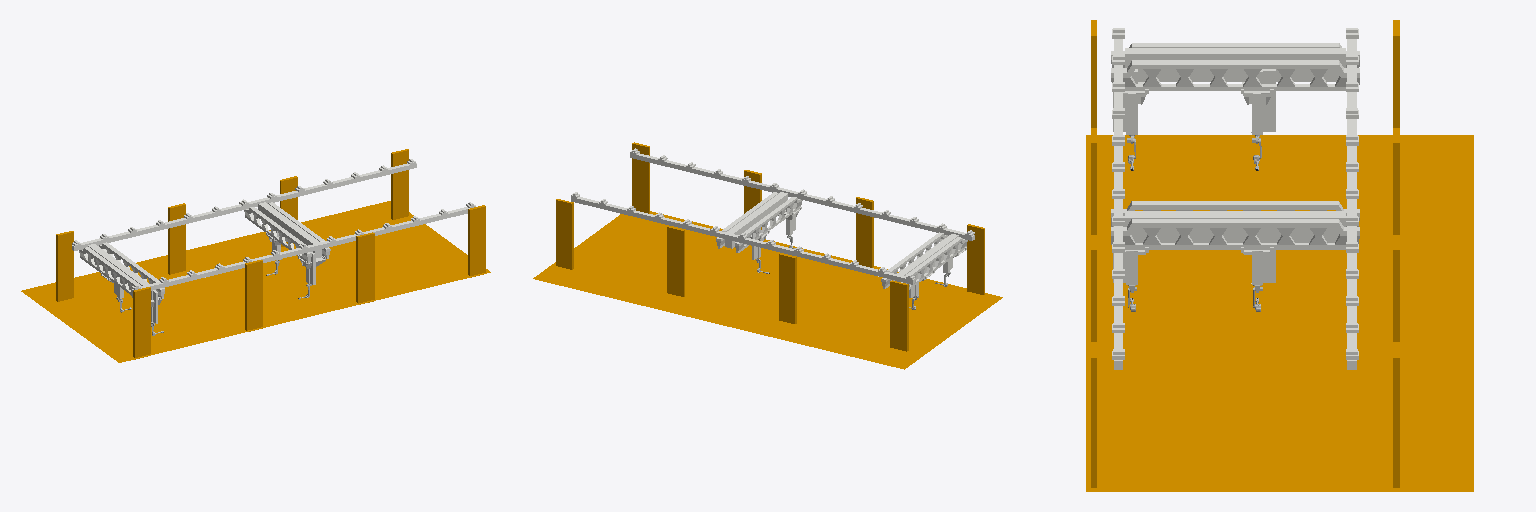
--- What the picture shows (computed from the rendered views, not written in the file) ---
3 views of the same robot in one strip: view 1: azimuth 30°, elevation 25°; view 2: azimuth 150°, elevation 25°; view 3: azimuth 270°, elevation 25° (orthographic).
Model rfl with 44 links and 43 joints (24 revolute, 10 prismatic, 9 fixed), rooted at world, posed joints at zero except 7 at the middle of their limits (robot11_joint_EA_Z = -2.96, robot12_joint_EA_Y = -7.41, robot12_joint_EA_Z = -2.96, bridge2_joint_EA_X = 21.2, robot21_joint_EA_Z = -2.96, robot22_joint_EA_Y = -7.41, +1 more).
Visible links, largest first — view 1: world, x_rail, bridge2, bridge1; view 2: world, x_rail, bridge2, bridge1; view 3: world, bridge2, bridge1, x_rail, robot12_base, robot22_base, robot11_base.
Boxes of the visible links, box(x1,y1,x2,y2) form: world: box(21, 149, 490, 362); x_rail: box(72, 159, 475, 293); bridge2: box(244, 202, 330, 263); bridge1: box(79, 242, 164, 298); world: box(533, 142, 1002, 369); x_rail: box(571, 148, 974, 284); bridge2: box(716, 192, 802, 252); bridge1: box(881, 232, 967, 289); world: box(1086, 20, 1473, 491); bridge2: box(1111, 201, 1359, 249); bridge1: box(1111, 43, 1359, 90); x_rail: box(1112, 28, 1358, 369); robot12_base: box(1251, 69, 1275, 134); robot22_base: box(1251, 250, 1275, 284); robot11_base: box(1113, 69, 1137, 134).
Bounding box of the posed robot: 50 × 23 × 8.7 m (x, y, z).
40 mesh visuals loaded from 14 distinct referenced files (14 binary STL).

URDF robot description (rfl):
<?xml version="1.0" encoding="utf-8"?>
<robot xmlns:xacro="http://ros.org/wiki/xacro" name="rfl">
  <link name="world">
    <visual>
      <origin xyz="0.0 0.0 0.0" rpy="0.0 0.0 0.0"/>
      <geometry>
        <mesh filename="package://rfl_description/meshes/visual/rfl_floor_and_columns.stl"/>
      </geometry>
    </visual>
    <collision>
      <origin xyz="0.0 0.0 0.0" rpy="0.0 0.0 0.0"/>
      <geometry>
        <mesh filename="package://rfl_description/meshes/collision/rfl_floor_and_columns.stl"/>
      </geometry>
    </collision>
  </link>
  <link name="x_rail">
    <visual>
      <origin xyz="0.0 0.0 0.0" rpy="0.0 0.0 0.0"/>
      <geometry>
        <mesh filename="package://rfl_description/meshes/visual/x_rail.stl"/>
      </geometry>
      <material name="Material">
        <color rgba="0.9254902 0.9254902 0.9058824 1.0"/>
      </material>
    </visual>
    <collision>
      <origin xyz="0.0 0.0 0.0" rpy="0.0 0.0 0.0"/>
      <geometry>
        <mesh filename="package://rfl_description/meshes/collision/x_rail.stl"/>
      </geometry>
    </collision>
  </link>
  <link name="bridge1">
    <visual>
      <origin xyz="0.0 0.0 0.0" rpy="0.0 0.0 0.0"/>
      <geometry>
        <mesh filename="package://rfl_description/meshes/visual/y_gantry.stl"/>
      </geometry>
      <material name="Material">
        <color rgba="0.9254902 0.9254902 0.9058824 1.0"/>
      </material>
    </visual>
    <collision>
      <origin xyz="0.0 0.0 0.0" rpy="0.0 0.0 0.0"/>
      <geometry>
        <mesh filename="package://rfl_description/meshes/collision/y_gantry.stl"/>
      </geometry>
    </collision>
    <inertial>
      <origin xyz="0.0 0.0 0.0" rpy="0.0 0.0 0.0"/>
      <mass value="120.0"/>
      <inertia ixx="-4.98" ixy="-0.0" ixz="2.7" iyy="-5.952" iyz="-0.0" izz="0.828"/>
    </inertial>
  </link>
  <link name="robot11_xy_cart">
    <visual>
      <origin xyz="0.0 0.0 0.0" rpy="0.0 0.0 0.0"/>
      <geometry>
        <mesh filename="package://rfl_description/meshes/visual/group1_xy_cart.stl"/>
      </geometry>
      <material name="Material">
        <color rgba="0.9254902 0.9254902 0.9058824 1.0"/>
      </material>
    </visual>
    <collision>
      <origin xyz="0.0 0.0 0.0" rpy="0.0 0.0 0.0"/>
      <geometry>
        <mesh filename="package://rfl_description/meshes/collision/group1_xy_cart.stl"/>
      </geometry>
    </collision>
    <inertial>
      <origin xyz="0.0 0.0 0.0" rpy="0.0 0.0 0.0"/>
      <mass value="120.0"/>
      <inertia ixx="-4.98" ixy="-0.0" ixz="2.7" iyy="-5.952" iyz="-0.0" izz="0.828"/>
    </inertial>
  </link>
  <link name="robot11_base">
    <visual>
      <origin xyz="0.0 0.0 0.0" rpy="0.0 0.0 0.0"/>
      <geometry>
        <mesh filename="package://rfl_description/meshes/visual/group1_z_axis.stl"/>
      </geometry>
      <material name="Material">
        <color rgba="0.9254902 0.9254902 0.9058824 1.0"/>
      </material>
    </visual>
    <collision>
      <origin xyz="0.0 0.0 0.0" rpy="0.0 0.0 0.0"/>
      <geometry>
        <mesh filename="package://rfl_description/meshes/collision/group1_z_axis.stl"/>
      </geometry>
    </collision>
    <inertial>
      <origin xyz="0.0 0.0 0.0" rpy="0.0 0.0 0.0"/>
      <mass value="120.0"/>
      <inertia ixx="-4.98" ixy="-0.0" ixz="2.7" iyy="-5.952" iyz="-0.0" izz="0.828"/>
    </inertial>
  </link>
  <link name="robot11_base_link">
    <visual>
      <geometry>
        <mesh filename="package://abb_irb4600_40_255/meshes/visual/base_link.stl"/>
      </geometry>
      <material name="Material">
        <color rgba="0.772549 0.7803922 0.7686275 1.0"/>
      </material>
    </visual>
    <collision>
      <geometry>
        <mesh filename="package://abb_irb4600_40_255/meshes/collision/base_link.stl"/>
      </geometry>
    </collision>
    <inertial>
      <origin xyz="0.0 0.0 0.0" rpy="0.0 0.0 0.0"/>
      <mass value="120.0"/>
      <inertia ixx="-4.98" ixy="0.0" ixz="2.7" iyy="-5.952" iyz="0.0" izz="0.828"/>
    </inertial>
  </link>
  <link name="robot11_link_1">
    <visual>
      <geometry>
        <mesh filename="package://abb_irb4600_40_255/meshes/visual/link_1.stl"/>
      </geometry>
      <material name="Material">
        <color rgba="0.772549 0.7803922 0.7686275 1.0"/>
      </material>
    </visual>
    <collision>
      <geometry>
        <mesh filename="package://abb_irb4600_40_255/meshes/collision/link_1.stl"/>
      </geometry>
    </collision>
    <inertial>
      <origin xyz="0.18 0.0 0.5" rpy="0.0 0.0 0.0"/>
      <mass value="120.0"/>
      <inertia ixx="-4.98" ixy="0.0" ixz="2.7" iyy="-5.952" iyz="0.0" izz="0.828"/>
    </inertial>
  </link>
  <link name="robot11_link_2">
    <visual>
      <geometry>
        <mesh filename="package://abb_irb4600_40_255/meshes/visual/link_2.stl"/>
      </geometry>
      <material name="Material">
        <color rgba="0.772549 0.7803922 0.7686275 1.0"/>
      </material>
    </visual>
    <collision>
      <geometry>
        <mesh filename="package://abb_irb4600_40_255/meshes/collision/link_2.stl"/>
      </geometry>
    </collision>
    <inertial>
      <origin xyz="0.94 0.08 -0.34" rpy="0.0 0.0 0.0"/>
      <mass value="120.0"/>
      <inertia ixx="-2.96" ixy="2.256" ixz="-9.588" iyy="-18.72601" iyz="-0.816" izz="-14.95"/>
    </inertial>
  </link>
  <link name="robot11_link_3">
    <visual>
      <geometry>
        <mesh filename="package://abb_irb4600_40_255/meshes/visual/link_3.stl"/>
      </geometry>
      <material name="Material">
        <color rgba="0.772549 0.7803922 0.7686275 1.0"/>
      </material>
    </visual>
    <collision>
      <geometry>
        <mesh filename="package://abb_irb4600_40_255/meshes/collision/link_3.stl"/>
      </geometry>
    </collision>
    <inertial>
      <origin xyz="0.07 -0.266 0.088" rpy="0.0 0.0 0.0"/>
      <mass value="120.0"/>
      <inertia ixx="1.345" ixy="0.5586" ixz="0.1848" iyy="4.65068" iyz="-0.70224" izz="2.76032"/>
    </inertial>
  </link>
  <link name="robot11_link_4">
    <visual>
      <geometry>
        <mesh filename="package://abb_irb4600_40_255/meshes/visual/link_4.stl"/>
      </geometry>
      <material name="Material">
        <color rgba="0.772549 0.7803922 0.7686275 1.0"/>
      </material>
    </visual>
    <collision>
      <geometry>
        <mesh filename="package://abb_irb4600_40_255/meshes/collision/link_4.stl"/>
      </geometry>
    </collision>
    <inertial>
      <origin xyz="0.0 0.0 1.0" rpy="0.0 0.0 0.0"/>
      <mass value="40.0"/>
      <inertia ixx="-8.0" ixy="0.0" ixz="0.0" iyy="-8.0" iyz="0.0" izz="0.482"/>
    </inertial>
  </link>
  <link name="robot11_link_5">
    <visual>
      <geometry>
        <mesh filename="package://abb_irb4600_40_255/meshes/visual/link_5.stl"/>
      </geometry>
      <material name="Material">
        <color rgba="0.772549 0.7803922 0.7686275 1.0"/>
      </material>
    </visual>
    <collision>
      <geometry>
        <mesh filename="package://abb_irb4600_40_255/meshes/collision/link_5.stl"/>
      </geometry>
    </collision>
    <inertial>
      <origin xyz="0.14 0.0 0.0" rpy="0.0 0.0 0.0"/>
      <mass value="10.0"/>
      <inertia ixx="0.04" ixy="0.0" ixz="0.0" iyy="-0.009" iyz="0.0" izz="-0.004"/>
    </inertial>
  </link>
  <link name="robot11_link_6">
    <visual>
      <geometry>
        <mesh filename="package://abb_irb4600_40_255/meshes/visual/link_6.stl"/>
      </geometry>
      <material name="Material">
        <color rgba="0.1882353 0.1960784 0.2039216 1.0"/>
      </material>
    </visual>
    <collision>
      <geometry>
        <mesh filename="package://abb_irb4600_40_255/meshes/collision/link_6.stl"/>
      </geometry>
    </collision>
    <inertial>
      <origin xyz="0.081 -0.091 0.332" rpy="0.0 0.0 0.0"/>
      <mass value="5.0"/>
      <inertia ixx="-0.29652" ixy="-0.03686" ixz="0.09396" iyy="-0.28792" iyz="-0.10556" izz="-0.04621"/>
    </inertial>
  </link>
  <link name="robot11_tool0"/>
  <link name="robot12_xy_cart">
    <visual>
      <origin xyz="0.0 0.0 0.0" rpy="0.0 0.0 0.0"/>
      <geometry>
        <mesh filename="package://rfl_description/meshes/visual/group2_xy_cart.stl"/>
      </geometry>
      <material name="Material">
        <color rgba="0.9254902 0.9254902 0.9058824 1.0"/>
      </material>
    </visual>
    <collision>
      <origin xyz="0.0 0.0 0.0" rpy="0.0 0.0 0.0"/>
      <geometry>
        <mesh filename="package://rfl_description/meshes/collision/group2_xy_cart.stl"/>
      </geometry>
    </collision>
    <inertial>
      <origin xyz="0.0 0.0 0.0" rpy="0.0 0.0 0.0"/>
      <mass value="120.0"/>
      <inertia ixx="-4.98" ixy="-0.0" ixz="2.7" iyy="-5.952" iyz="-0.0" izz="0.828"/>
    </inertial>
  </link>
  <link name="robot12_base">
    <visual>
      <origin xyz="0.0 0.0 0.0" rpy="0.0 0.0 0.0"/>
      <geometry>
        <mesh filename="package://rfl_description/meshes/visual/group2_z_axis.stl"/>
      </geometry>
      <material name="Material">
        <color rgba="0.9254902 0.9254902 0.9058824 1.0"/>
      </material>
    </visual>
    <collision>
      <origin xyz="0.0 0.0 0.0" rpy="0.0 0.0 0.0"/>
      <geometry>
        <mesh filename="package://rfl_description/meshes/collision/group2_z_axis.stl"/>
      </geometry>
    </collision>
    <inertial>
      <origin xyz="0.0 0.0 0.0" rpy="0.0 0.0 0.0"/>
      <mass value="120.0"/>
      <inertia ixx="-4.98" ixy="-0.0" ixz="2.7" iyy="-5.952" iyz="-0.0" izz="0.828"/>
    </inertial>
  </link>
  <link name="robot12_base_link">
    <visual>
      <geometry>
        <mesh filename="package://abb_irb4600_40_255/meshes/visual/base_link.stl"/>
      </geometry>
      <material name="Material">
        <color rgba="0.772549 0.7803922 0.7686275 1.0"/>
      </material>
    </visual>
    <collision>
      <geometry>
        <mesh filename="package://abb_irb4600_40_255/meshes/collision/base_link.stl"/>
      </geometry>
    </collision>
    <inertial>
      <origin xyz="0.0 0.0 0.0" rpy="0.0 0.0 0.0"/>
      <mass value="120.0"/>
      <inertia ixx="-4.98" ixy="0.0" ixz="2.7" iyy="-5.952" iyz="0.0" izz="0.828"/>
    </inertial>
  </link>
  <link name="robot12_link_1">
    <visual>
      <geometry>
        <mesh filename="package://abb_irb4600_40_255/meshes/visual/link_1.stl"/>
      </geometry>
      <material name="Material">
        <color rgba="0.772549 0.7803922 0.7686275 1.0"/>
      </material>
    </visual>
    <collision>
      <geometry>
        <mesh filename="package://abb_irb4600_40_255/meshes/collision/link_1.stl"/>
      </geometry>
    </collision>
    <inertial>
      <origin xyz="0.18 0.0 0.5" rpy="0.0 0.0 0.0"/>
      <mass value="120.0"/>
      <inertia ixx="-4.98" ixy="0.0" ixz="2.7" iyy="-5.952" iyz="0.0" izz="0.828"/>
    </inertial>
  </link>
  <link name="robot12_link_2">
    <visual>
      <geometry>
        <mesh filename="package://abb_irb4600_40_255/meshes/visual/link_2.stl"/>
      </geometry>
      <material name="Material">
        <color rgba="0.772549 0.7803922 0.7686275 1.0"/>
      </material>
    </visual>
    <collision>
      <geometry>
        <mesh filename="package://abb_irb4600_40_255/meshes/collision/link_2.stl"/>
      </geometry>
    </collision>
    <inertial>
      <origin xyz="0.94 0.08 -0.34" rpy="0.0 0.0 0.0"/>
      <mass value="120.0"/>
      <inertia ixx="-2.96" ixy="2.256" ixz="-9.588" iyy="-18.72601" iyz="-0.816" izz="-14.95"/>
    </inertial>
  </link>
  <link name="robot12_link_3">
    <visual>
      <geometry>
        <mesh filename="package://abb_irb4600_40_255/meshes/visual/link_3.stl"/>
      </geometry>
      <material name="Material">
        <color rgba="0.772549 0.7803922 0.7686275 1.0"/>
      </material>
    </visual>
    <collision>
      <geometry>
        <mesh filename="package://abb_irb4600_40_255/meshes/collision/link_3.stl"/>
      </geometry>
    </collision>
    <inertial>
      <origin xyz="0.07 -0.266 0.088" rpy="0.0 0.0 0.0"/>
      <mass value="120.0"/>
      <inertia ixx="1.345" ixy="0.5586" ixz="0.1848" iyy="4.65068" iyz="-0.70224" izz="2.76032"/>
    </inertial>
  </link>
  <link name="robot12_link_4">
    <visual>
      <geometry>
        <mesh filename="package://abb_irb4600_40_255/meshes/visual/link_4.stl"/>
      </geometry>
      <material name="Material">
        <color rgba="0.772549 0.7803922 0.7686275 1.0"/>
      </material>
    </visual>
    <collision>
      <geometry>
        <mesh filename="package://abb_irb4600_40_255/meshes/collision/link_4.stl"/>
      </geometry>
    </collision>
    <inertial>
      <origin xyz="0.0 0.0 1.0" rpy="0.0 0.0 0.0"/>
      <mass value="40.0"/>
      <inertia ixx="-8.0" ixy="0.0" ixz="0.0" iyy="-8.0" iyz="0.0" izz="0.482"/>
    </inertial>
  </link>
  <link name="robot12_link_5">
    <visual>
      <geometry>
        <mesh filename="package://abb_irb4600_40_255/meshes/visual/link_5.stl"/>
      </geometry>
      <material name="Material">
        <color rgba="0.772549 0.7803922 0.7686275 1.0"/>
      </material>
    </visual>
    <collision>
      <geometry>
        <mesh filename="package://abb_irb4600_40_255/meshes/collision/link_5.stl"/>
      </geometry>
    </collision>
    <inertial>
      <origin xyz="0.14 0.0 0.0" rpy="0.0 0.0 0.0"/>
      <mass value="10.0"/>
      <inertia ixx="0.04" ixy="0.0" ixz="0.0" iyy="-0.009" iyz="0.0" izz="-0.004"/>
    </inertial>
  </link>
  <link name="robot12_link_6">
    <visual>
      <geometry>
        <mesh filename="package://abb_irb4600_40_255/meshes/visual/link_6.stl"/>
      </geometry>
      <material name="Material">
        <color rgba="0.1882353 0.1960784 0.2039216 1.0"/>
      </material>
    </visual>
    <collision>
      <geometry>
        <mesh filename="package://abb_irb4600_40_255/meshes/collision/link_6.stl"/>
      </geometry>
    </collision>
    <inertial>
      <origin xyz="0.081 -0.091 0.332" rpy="0.0 0.0 0.0"/>
      <mass value="5.0"/>
      <inertia ixx="-0.29652" ixy="-0.03686" ixz="0.09396" iyy="-0.28792" iyz="-0.10556" izz="-0.04621"/>
    </inertial>
  </link>
  <link name="robot12_tool0"/>
  <link name="bridge2">
    <visual>
      <origin xyz="0.0 12.2364997 0.0" rpy="0.0 0.0 -3.1415926535895866"/>
      <geometry>
        <mesh filename="package://rfl_description/meshes/visual/y_gantry.stl"/>
      </geometry>
      <material name="Material">
        <color rgba="0.9254902 0.9254902 0.9058824 1.0"/>
      </material>
    </visual>
    <collision>
      <origin xyz="0.0 12.2364997 0.0" rpy="0.0 0.0 -3.1415926535895866"/>
      <geometry>
        <mesh filename="package://rfl_description/meshes/collision/y_gantry.stl"/>
      </geometry>
    </collision>
    <inertial>
      <origin xyz="0.0 0.0 0.0" rpy="0.0 0.0 0.0"/>
      <mass value="120.0"/>
      <inertia ixx="-4.98" ixy="-0.0" ixz="2.7" iyy="-5.952" iyz="-0.0" izz="0.828"/>
    </inertial>
  </link>
  <link name="robot21_xy_cart">
    <visual>
      <origin xyz="0.0 0.0 0.0" rpy="0.0 0.0 -3.1415926535895866"/>
      <geometry>
        <mesh filename="package://rfl_description/meshes/visual/group2_xy_cart.stl"/>
      </geometry>
      <material name="Material">
        <color rgba="0.9254902 0.9254902 0.9058824 1.0"/>
      </material>
    </visual>
    <collision>
      <origin xyz="0.0 0.0 0.0" rpy="0.0 0.0 -3.1415926535895866"/>
      <geometry>
        <mesh filename="package://rfl_description/meshes/collision/group2_xy_cart.stl"/>
      </geometry>
    </collision>
    <inertial>
      <origin xyz="0.0 0.0 0.0" rpy="0.0 0.0 0.0"/>
      <mass value="120.0"/>
      <inertia ixx="-4.98" ixy="-0.0" ixz="2.7" iyy="-5.952" iyz="-0.0" izz="0.828"/>
    </inertial>
  </link>
  <link name="robot21_base">
    <visual>
      <origin xyz="0.0 0.0 0.0" rpy="0.0 0.0 -3.1415926535895866"/>
      <geometry>
        <mesh filename="package://rfl_description/meshes/visual/group2_z_axis.stl"/>
      </geometry>
      <material name="Material">
        <color rgba="0.9254902 0.9254902 0.9058824 1.0"/>
      </material>
    </visual>
    <collision>
      <origin xyz="0.0 0.0 0.0" rpy="0.0 0.0 -3.1415926535895866"/>
      <geometry>
        <mesh filename="package://rfl_description/meshes/collision/group2_z_axis.stl"/>
      </geometry>
    </collision>
    <inertial>
      <origin xyz="0.0 0.0 0.0" rpy="0.0 0.0 0.0"/>
      <mass value="120.0"/>
      <inertia ixx="-4.98" ixy="-0.0" ixz="2.7" iyy="-5.952" iyz="-0.0" izz="0.828"/>
    </inertial>
  </link>
  <link name="robot21_base_link">
    <visual>
      <geometry>
        <mesh filename="package://abb_irb4600_40_255/meshes/visual/base_link.stl"/>
      </geometry>
      <material name="Material">
        <color rgba="0.772549 0.7803922 0.7686275 1.0"/>
      </material>
    </visual>
    <collision>
      <geometry>
        <mesh filename="package://abb_irb4600_40_255/meshes/collision/base_link.stl"/>
      </geometry>
    </collision>
    <inertial>
      <origin xyz="0.0 0.0 0.0" rpy="0.0 0.0 0.0"/>
      <mass value="120.0"/>
      <inertia ixx="-4.98" ixy="0.0" ixz="2.7" iyy="-5.952" iyz="0.0" izz="0.828"/>
    </inertial>
  </link>
  <link name="robot21_link_1">
    <visual>
      <geometry>
        <mesh filename="package://abb_irb4600_40_255/meshes/visual/link_1.stl"/>
      </geometry>
      <material name="Material">
        <color rgba="0.772549 0.7803922 0.7686275 1.0"/>
      </material>
    </visual>
    <collision>
      <geometry>
        <mesh filename="package://abb_irb4600_40_255/meshes/collision/link_1.stl"/>
      </geometry>
    </collision>
    <inertial>
      <origin xyz="0.18 0.0 0.5" rpy="0.0 0.0 0.0"/>
      <mass value="120.0"/>
      <inertia ixx="-4.98" ixy="0.0" ixz="2.7" iyy="-5.952" iyz="0.0" izz="0.828"/>
    </inertial>
  </link>
  <link name="robot21_link_2">
    <visual>
      <geometry>
        <mesh filename="package://abb_irb4600_40_255/meshes/visual/link_2.stl"/>
      </geometry>
      <material name="Material">
        <color rgba="0.772549 0.7803922 0.7686275 1.0"/>
      </material>
    </visual>
    <collision>
      <geometry>
        <mesh filename="package://abb_irb4600_40_255/meshes/collision/link_2.stl"/>
      </geometry>
    </collision>
    <inertial>
      <origin xyz="0.94 0.08 -0.34" rpy="0.0 0.0 0.0"/>
      <mass value="120.0"/>
      <inertia ixx="-2.96" ixy="2.256" ixz="-9.588" iyy="-18.72601" iyz="-0.816" izz="-14.95"/>
    </inertial>
  </link>
  <link name="robot21_link_3">
    <visual>
      <geometry>
        <mesh filename="package://abb_irb4600_40_255/meshes/visual/link_3.stl"/>
      </geometry>
      <material name="Material">
        <color rgba="0.772549 0.7803922 0.7686275 1.0"/>
      </material>
    </visual>
    <collision>
      <geometry>
        <mesh filename="package://abb_irb4600_40_255/meshes/collision/link_3.stl"/>
      </geometry>
    </collision>
    <inertial>
      <origin xyz="0.07 -0.266 0.088" rpy="0.0 0.0 0.0"/>
      <mass value="120.0"/>
      <inertia ixx="1.345" ixy="0.5586" ixz="0.1848" iyy="4.65068" iyz="-0.70224" izz="2.76032"/>
    </inertial>
  </link>
  <link name="robot21_link_4">
    <visual>
      <geometry>
        <mesh filename="package://abb_irb4600_40_255/meshes/visual/link_4.stl"/>
      </geometry>
      <material name="Material">
        <color rgba="0.772549 0.7803922 0.7686275 1.0"/>
      </material>
    </visual>
    <collision>
      <geometry>
        <mesh filename="package://abb_irb4600_40_255/meshes/collision/link_4.stl"/>
      </geometry>
    </collision>
    <inertial>
      <origin xyz="0.0 0.0 1.0" rpy="0.0 0.0 0.0"/>
      <mass value="40.0"/>
      <inertia ixx="-8.0" ixy="0.0" ixz="0.0" iyy="-8.0" iyz="0.0" izz="0.482"/>
    </inertial>
  </link>
  <link name="robot21_link_5">
    <visual>
      <geometry>
        <mesh filename="package://abb_irb4600_40_255/meshes/visual/link_5.stl"/>
      </geometry>
      <material name="Material">
        <color rgba="0.772549 0.7803922 0.7686275 1.0"/>
      </material>
    </visual>
    <collision>
      <geometry>
        <mesh filename="package://abb_irb4600_40_255/meshes/collision/link_5.stl"/>
      </geometry>
    </collision>
    <inertial>
      <origin xyz="0.14 0.0 0.0" rpy="0.0 0.0 0.0"/>
      <mass value="10.0"/>
      <inertia ixx="0.04" ixy="0.0" ixz="0.0" iyy="-0.009" iyz="0.0" izz="-0.004"/>
    </inertial>
  </link>
  <link name="robot21_link_6">
    <visual>
      <geometry>
        <mesh filename="package://abb_irb4600_40_255/meshes/visual/link_6.stl"/>
      </geometry>
      <material name="Material">
        <color rgba="0.1882353 0.1960784 0.2039216 1.0"/>
      </material>
    </visual>
    <collision>
      <geometry>
        <mesh filename="package://abb_irb4600_40_255/meshes/collision/link_6.stl"/>
      </geometry>
    </collision>
    <inertial>
      <origin xyz="0.081 -0.091 0.332" rpy="0.0 0.0 0.0"/>
      <mass value="5.0"/>
      <inertia ixx="-0.29652" ixy="-0.03686" ixz="0.09396" iyy="-0.28792" iyz="-0.10556" izz="-0.04621"/>
    </inertial>
  </link>
  <link name="robot21_tool0"/>
  <link name="robot22_xy_cart">
    <visual>
      <origin xyz="0.0 0.0 0.0" rpy="0.0 0.0 -3.1415926535895866"/>
      <geometry>
        <mesh filename="package://rfl_description/meshes/visual/group1_xy_cart.stl"/>
      </geometry>
      <material name="Material">
        <color rgba="0.9254902 0.9254902 0.9058824 1.0"/>
      </material>
    </visual>
    <collision>
      <origin xyz="0.0 0.0 0.0" rpy="0.0 0.0 -3.1415926535895866"/>
      <geometry>
        <mesh filename="package://rfl_description/meshes/collision/group1_xy_cart.stl"/>
      </geometry>
    </collision>
    <inertial>
      <origin xyz="0.0 0.0 0.0" rpy="0.0 0.0 0.0"/>
      <mass value="120.0"/>
      <inertia ixx="-4.98" ixy="-0.0" ixz="2.7" iyy="-5.952" iyz="-0.0" izz="0.828"/>
    </inertial>
  </link>
  <link name="robot22_base">
    <visual>
      <origin xyz="0.0 0.0 0.0" rpy="0.0 0.0 -3.1415926535895866"/>
      <geometry>
        <mesh filename="package://rfl_description/meshes/visual/group1_z_axis.stl"/>
      </geometry>
      <material name="Material">
        <color rgba="0.9254902 0.9254902 0.9058824 1.0"/>
      </material>
    </visual>
    <collision>
      <origin xyz="0.0 0.0 0.0" rpy="0.0 0.0 -3.1415926535895866"/>
      <geometry>
        <mesh filename="package://rfl_description/meshes/collision/group1_z_axis.stl"/>
      </geometry>
    </collision>
    <inertial>
      <origin xyz="0.0 0.0 0.0" rpy="0.0 0.0 0.0"/>
      <mass value="120.0"/>
      <inertia ixx="-4.98" ixy="-0.0" ixz="2.7" iyy="-5.952" iyz="-0.0" izz="0.828"/>
    </inertial>
  </link>
  <link name="robot22_base_link">
    <visual>
      <geometry>
        <mesh filename="package://abb_irb4600_40_255/meshes/visual/base_link.stl"/>
      </geometry>
      <material name="Material">
        <color rgba="0.772549 0.7803922 0.7686275 1.0"/>
      </material>
    </visual>
    <collision>
      <geometry>
        <mesh filename="package://abb_irb4600_40_255/meshes/collision/base_link.stl"/>
      </geometry>
    </collision>
    <inertial>
      <origin xyz="0.0 0.0 0.0" rpy="0.0 0.0 0.0"/>
      <mass value="120.0"/>
      <inertia ixx="-4.98" ixy="0.0" ixz="2.7" iyy="-5.952" iyz="0.0" izz="0.828"/>
    </inertial>
  </link>
  <link name="robot22_link_1">
    <visual>
      <geometry>
        <mesh filename="package://abb_irb4600_40_255/meshes/visual/link_1.stl"/>
      </geometry>
      <material name="Material">
        <color rgba="0.772549 0.7803922 0.7686275 1.0"/>
      </material>
    </visual>
    <collision>
      <geometry>
        <mesh filename="package://abb_irb4600_40_255/meshes/collision/link_1.stl"/>
      </geometry>
    </collision>
    <inertial>
      <origin xyz="0.18 0.0 0.5" rpy="0.0 0.0 0.0"/>
      <mass value="120.0"/>
      <inertia ixx="-4.98" ixy="0.0" ixz="2.7" iyy="-5.952" iyz="0.0" izz="0.828"/>
    </inertial>
  </link>
  <link name="robot22_link_2">
    <visual>
      <geometry>
        <mesh filename="package://abb_irb4600_40_255/meshes/visual/link_2.stl"/>
      </geometry>
      <material name="Material">
        <color rgba="0.772549 0.7803922 0.7686275 1.0"/>
      </material>
    </visual>
    <collision>
      <geometry>
        <mesh filename="package://abb_irb4600_40_255/meshes/collision/link_2.stl"/>
      </geometry>
    </collision>
    <inertial>
      <origin xyz="0.94 0.08 -0.34" rpy="0.0 0.0 0.0"/>
      <mass value="120.0"/>
      <inertia ixx="-2.96" ixy="2.256" ixz="-9.588" iyy="-18.72601" iyz="-0.816" izz="-14.95"/>
    </inertial>
  </link>
  <link name="robot22_link_3">
    <visual>
      <geometry>
        <mesh filename="package://abb_irb4600_40_255/meshes/visual/link_3.stl"/>
      </geometry>
      <material name="Material">
        <color rgba="0.772549 0.7803922 0.7686275 1.0"/>
      </material>
    </visual>
    <collision>
      <geometry>
        <mesh filename="package://abb_irb4600_40_255/meshes/collision/link_3.stl"/>
      </geometry>
    </collision>
    <inertial>
      <origin xyz="0.07 -0.266 0.088" rpy="0.0 0.0 0.0"/>
      <mass value="120.0"/>
      <inertia ixx="1.345" ixy="0.5586" ixz="0.1848" iyy="4.65068" iyz="-0.70224" izz="2.76032"/>
    </inertial>
  </link>
  <link name="robot22_link_4">
    <visual>
      <geometry>
        <mesh filename="package://abb_irb4600_40_255/meshes/visual/link_4.stl"/>
      </geometry>
      <material name="Material">
        <color rgba="0.772549 0.7803922 0.7686275 1.0"/>
      </material>
    </visual>
    <collision>
      <geometry>
        <mesh filename="package://abb_irb4600_40_255/meshes/collision/link_4.stl"/>
      </geometry>
    </collision>
    <inertial>
      <origin xyz="0.0 0.0 1.0" rpy="0.0 0.0 0.0"/>
      <mass value="40.0"/>
      <inertia ixx="-8.0" ixy="0.0" ixz="0.0" iyy="-8.0" iyz="0.0" izz="0.482"/>
    </inertial>
  </link>
  <link name="robot22_link_5">
    <visual>
      <geometry>
        <mesh filename="package://abb_irb4600_40_255/meshes/visual/link_5.stl"/>
      </geometry>
      <material name="Material">
        <color rgba="0.772549 0.7803922 0.7686275 1.0"/>
      </material>
    </visual>
    <collision>
      <geometry>
        <mesh filename="package://abb_irb4600_40_255/meshes/collision/link_5.stl"/>
      </geometry>
    </collision>
    <inertial>
      <origin xyz="0.14 0.0 0.0" rpy="0.0 0.0 0.0"/>
      <mass value="10.0"/>
      <inertia ixx="0.04" ixy="0.0" ixz="0.0" iyy="-0.009" iyz="0.0" izz="-0.004"/>
    </inertial>
  </link>
  <link name="robot22_link_6">
    <visual>
      <geometry>
        <mesh filename="package://abb_irb4600_40_255/meshes/visual/link_6.stl"/>
      </geometry>
      <material name="Material">
        <color rgba="0.1882353 0.1960784 0.2039216 1.0"/>
      </material>
    </visual>
    <collision>
      <geometry>
        <mesh filename="package://abb_irb4600_40_255/meshes/collision/link_6.stl"/>
      </geometry>
    </collision>
    <inertial>
      <origin xyz="0.081 -0.091 0.332" rpy="0.0 0.0 0.0"/>
      <mass value="5.0"/>
      <inertia ixx="-0.29652" ixy="-0.03686" ixz="0.09396" iyy="-0.28792" iyz="-0.10556" izz="-0.04621"/>
    </inertial>
  </link>
  <link name="robot22_tool0"/>
  <joint name="world_joint" type="fixed">
    <parent link="world"/>
    <child link="x_rail"/>
    <axis xyz="1.0 0.0 0.0"/>
    <origin xyz="0.0 0.0 0.0" rpy="0.0 0.0 0.0"/>
  </joint>
  <joint name="bridge1_joint_EA_X" type="prismatic">
    <parent link="x_rail"/>
    <child link="bridge1"/>
    <axis xyz="1.0 0.0 0.0"/>
    <dynamics damping="0.2" friction="0.0"/>
    <limit upper="37.206" effort="100000.0" velocity="2.618"/>
    <origin xyz="0.0 0.0 0.0" rpy="0.0 0.0 0.0"/>
  </joint>
  <joint name="robot11_joint_EA_Y" type="prismatic">
    <parent link="bridge1"/>
    <child link="robot11_xy_cart"/>
    <axis xyz="0.0 -1.0 0.0"/>
    <dynamics damping="0.2" friction="0.0"/>
    <limit lower="-9.65" effort="100000.0" velocity="2.618"/>
    <origin xyz="0.0 0.0 0.0" rpy="0.0 0.0 0.0"/>
  </joint>
  <joint name="robot11_joint_EA_Z" type="prismatic">
    <parent link="robot11_xy_cart"/>
    <child link="robot11_base"/>
    <axis xyz="0.0 0.0 -1.0"/>
    <dynamics damping="0.2" friction="0.0"/>
    <limit lower="-4.915" upper="-1.005" effort="100000.0" velocity="2.618"/>
    <origin xyz="0.0 0.0 0.0" rpy="0.0 0.0 0.0"/>
  </joint>
  <joint name="robot11_joint_0" type="fixed">
    <parent link="robot11_base"/>
    <child link="robot11_base_link"/>
    <axis xyz="1.0 0.0 0.0"/>
    <dynamics damping="0.2" friction="0.0"/>
    <origin xyz="0.0 0.0 0.0" rpy="-3.1415926535895866 0.0 0.0"/>
  </joint>
  <joint name="robot11_joint_1" type="revolute">
    <parent link="robot11_base_link"/>
    <child link="robot11_link_1"/>
    <axis xyz="0.0 0.0 1.0"/>
    <dynamics damping="0.2" friction="0.0"/>
    <limit lower="-3.14159265359" upper="3.14159265359" effort="100000.0" velocity="2.618"/>
    <origin xyz="0.0 0.0 0.0" rpy="0.0 0.0 0.0"/>
  </joint>
  <joint name="robot11_joint_2" type="revolute">
    <parent link="robot11_link_1"/>
    <child link="robot11_link_2"/>
    <axis xyz="0.0 1.0 0.0"/>
    <dynamics damping="0.2" friction="0.0"/>
    <limit lower="-1.57079632679" upper="2.61799387799" effort="100000.0" velocity="2.618"/>
    <origin xyz="0.175 0.0 0.495" rpy="0.0 0.0 0.0"/>
  </joint>
  <joint name="robot11_joint_3" type="revolute">
    <parent link="robot11_link_2"/>
    <child link="robot11_link_3"/>
    <axis xyz="0.0 1.0 0.0"/>
    <dynamics damping="0.2" friction="0.0"/>
    <limit lower="-3.14159265359" upper="1.308996939" effort="100000.0" velocity="2.618"/>
    <origin xyz="0.0 0.0 1.095" rpy="0.0 0.0 0.0"/>
  </joint>
  <joint name="robot11_joint_4" type="revolute">
    <parent link="robot11_link_3"/>
    <child link="robot11_link_4"/>
    <axis xyz="1.0 0.0 0.0"/>
    <dynamics damping="0.2" friction="0.0"/>
    <limit lower="-6.98131700798" upper="6.98131700798" effort="10000.0" velocity="6.2832"/>
    <origin xyz="0.331 0.0 0.175" rpy="0.0 0.0 0.0"/>
  </joint>
  <joint name="robot11_joint_5" type="revolute">
    <parent link="robot11_link_4"/>
    <child link="robot11_link_5"/>
    <axis xyz="0.0 1.0 0.0"/>
    <dynamics damping="0.2" friction="0.0"/>
    <limit lower="-2.18166" upper="2.18166156499" effort="100000.0" velocity="6.2832"/>
    <origin xyz="0.939 0.0 0.0" rpy="0.0 0.0 0.0"/>
  </joint>
  <joint name="robot11_joint_6" type="revolute">
    <parent link="robot11_link_5"/>
    <child link="robot11_link_6"/>
    <axis xyz="0.0 0.0 1.0"/>
    <dynamics damping="0.2" friction="0.0"/>
    <limit lower="-6.98131700798" upper="6.98131700798" effort="100000.0" velocity="7.854"/>
    <origin xyz="0.135 0.0 0.0" rpy="0.0 1.57079632679 0.0"/>
  </joint>
  <joint name="robot11_joint_6-tool0" type="fixed">
    <parent link="robot11_link_6"/>
    <child link="robot11_tool0"/>
    <axis xyz="1.0 0.0 0.0"/>
    <origin xyz="0.0 0.0 0.0" rpy="0.0 0.0 0.0"/>
  </joint>
  <joint name="robot12_joint_EA_Y" type="prismatic">
    <parent link="bridge1"/>
    <child link="robot12_xy_cart"/>
    <axis xyz="0.0 -1.0 0.0"/>
    <dynamics damping="0.2" friction="0.0"/>
    <limit lower="-12.237" upper="-2.587" effort="100000.0" velocity="2.618"/>
    <origin xyz="0.0 0.0 0.0" rpy="0.0 0.0 0.0"/>
  </joint>
  <joint name="robot12_joint_EA_Z" type="prismatic">
    <parent link="robot12_xy_cart"/>
    <child link="robot12_base"/>
    <axis xyz="0.0 0.0 -1.0"/>
    <dynamics damping="0.2" friction="0.0"/>
    <limit lower="-4.915" upper="-1.005" effort="100000.0" velocity="2.618"/>
    <origin xyz="0.0 0.0 0.0" rpy="0.0 0.0 0.0"/>
  </joint>
  <joint name="robot12_joint_0" type="fixed">
    <parent link="robot12_base"/>
    <child link="robot12_base_link"/>
    <axis xyz="1.0 0.0 0.0"/>
    <dynamics damping="0.2" friction="0.0"/>
    <origin xyz="0.0 0.0 0.0" rpy="-3.1415926535895866 0.0 0.0"/>
  </joint>
  <joint name="robot12_joint_1" type="revolute">
    <parent link="robot12_base_link"/>
    <child link="robot12_link_1"/>
    <axis xyz="0.0 0.0 1.0"/>
    <dynamics damping="0.2" friction="0.0"/>
    <limit lower="-3.14159265359" upper="3.14159265359" effort="100000.0" velocity="2.618"/>
    <origin xyz="0.0 0.0 0.0" rpy="0.0 0.0 0.0"/>
  </joint>
  <joint name="robot12_joint_2" type="revolute">
    <parent link="robot12_link_1"/>
    <child link="robot12_link_2"/>
    <axis xyz="0.0 1.0 0.0"/>
    <dynamics damping="0.2" friction="0.0"/>
    <limit lower="-1.57079632679" upper="2.61799387799" effort="100000.0" velocity="2.618"/>
    <origin xyz="0.175 0.0 0.495" rpy="0.0 0.0 0.0"/>
  </joint>
  <joint name="robot12_joint_3" type="revolute">
    <parent link="robot12_link_2"/>
    <child link="robot12_link_3"/>
    <axis xyz="0.0 1.0 0.0"/>
    <dynamics damping="0.2" friction="0.0"/>
    <limit lower="-3.14159265359" upper="1.308996939" effort="100000.0" velocity="2.618"/>
    <origin xyz="0.0 0.0 1.095" rpy="0.0 0.0 0.0"/>
  </joint>
  <joint name="robot12_joint_4" type="revolute">
    <parent link="robot12_link_3"/>
    <child link="robot12_link_4"/>
    <axis xyz="1.0 0.0 0.0"/>
    <dynamics damping="0.2" friction="0.0"/>
    <limit lower="-6.98131700798" upper="6.98131700798" effort="10000.0" velocity="6.2832"/>
    <origin xyz="0.331 0.0 0.175" rpy="0.0 0.0 0.0"/>
  </joint>
  <joint name="robot12_joint_5" type="revolute">
    <parent link="robot12_link_4"/>
    <child link="robot12_link_5"/>
    <axis xyz="0.0 1.0 0.0"/>
    <dynamics damping="0.2" friction="0.0"/>
    <limit lower="-2.18166" upper="2.18166156499" effort="100000.0" velocity="6.2832"/>
    <origin xyz="0.939 0.0 0.0" rpy="0.0 0.0 0.0"/>
  </joint>
  <joint name="robot12_joint_6" type="revolute">
    <parent link="robot12_link_5"/>
    <child link="robot12_link_6"/>
    <axis xyz="0.0 0.0 1.0"/>
    <dynamics damping="0.2" friction="0.0"/>
    <limit lower="-6.98131700798" upper="6.98131700798" effort="100000.0" velocity="7.854"/>
    <origin xyz="0.135 0.0 0.0" rpy="0.0 1.57079632679 0.0"/>
  </joint>
  <joint name="robot12_joint_6-tool0" type="fixed">
    <parent link="robot12_link_6"/>
    <child link="robot12_tool0"/>
    <axis xyz="1.0 0.0 0.0"/>
    <origin xyz="0.0 0.0 0.0" rpy="0.0 0.0 0.0"/>
  </joint>
  <joint name="bridge2_joint_EA_X" type="prismatic">
    <parent link="x_rail"/>
    <child link="bridge2"/>
    <axis xyz="1.0 0.0 0.0"/>
    <dynamics damping="0.2" friction="0.0"/>
    <limit lower="2.599" upper="39.805" effort="100000.0" velocity="2.618"/>
    <origin xyz="0.0 0.0 0.0" rpy="0.0 0.0 0.0"/>
  </joint>
  <joint name="robot21_joint_EA_Y" type="prismatic">
    <parent link="bridge2"/>
    <child link="robot21_xy_cart"/>
    <axis xyz="0.0 -1.0 0.0"/>
    <dynamics damping="0.2" friction="0.0"/>
    <limit lower="-9.65" effort="100000.0" velocity="2.618"/>
    <origin xyz="0.0 0.0 0.0" rpy="0.0 0.0 0.0"/>
  </joint>
  <joint name="robot21_joint_EA_Z" type="prismatic">
    <parent link="robot21_xy_cart"/>
    <child link="robot21_base"/>
    <axis xyz="0.0 0.0 -1.0"/>
    <dynamics damping="0.2" friction="0.0"/>
    <limit lower="-4.915" upper="-1.005" effort="100000.0" velocity="2.618"/>
    <origin xyz="0.0 0.0 0.0" rpy="0.0 0.0 0.0"/>
  </joint>
  <joint name="robot21_joint_0" type="fixed">
    <parent link="robot21_base"/>
    <child link="robot21_base_link"/>
    <axis xyz="1.0 0.0 0.0"/>
    <dynamics damping="0.2" friction="0.0"/>
    <origin xyz="0.0 0.0 0.0" rpy="-3.1415926535895866 0.0 -3.1415926535895866"/>
  </joint>
  <joint name="robot21_joint_1" type="revolute">
    <parent link="robot21_base_link"/>
    <child link="robot21_link_1"/>
    <axis xyz="0.0 0.0 1.0"/>
    <dynamics damping="0.2" friction="0.0"/>
    <limit lower="-3.14159265359" upper="3.14159265359" effort="100000.0" velocity="2.618"/>
    <origin xyz="0.0 0.0 0.0" rpy="0.0 0.0 0.0"/>
  </joint>
  <joint name="robot21_joint_2" type="revolute">
    <parent link="robot21_link_1"/>
    <child link="robot21_link_2"/>
    <axis xyz="0.0 1.0 0.0"/>
    <dynamics damping="0.2" friction="0.0"/>
    <limit lower="-1.57079632679" upper="2.61799387799" effort="100000.0" velocity="2.618"/>
    <origin xyz="0.175 0.0 0.495" rpy="0.0 0.0 0.0"/>
  </joint>
  <joint name="robot21_joint_3" type="revolute">
    <parent link="robot21_link_2"/>
    <child link="robot21_link_3"/>
    <axis xyz="0.0 1.0 0.0"/>
    <dynamics damping="0.2" friction="0.0"/>
    <limit lower="-3.14159265359" upper="1.308996939" effort="100000.0" velocity="2.618"/>
    <origin xyz="0.0 0.0 1.095" rpy="0.0 0.0 0.0"/>
  </joint>
  <joint name="robot21_joint_4" type="revolute">
    <parent link="robot21_link_3"/>
    <child link="robot21_link_4"/>
    <axis xyz="1.0 0.0 0.0"/>
    <dynamics damping="0.2" friction="0.0"/>
    <limit lower="-6.98131700798" upper="6.98131700798" effort="10000.0" velocity="6.2832"/>
    <origin xyz="0.331 0.0 0.175" rpy="0.0 0.0 0.0"/>
  </joint>
  <joint name="robot21_joint_5" type="revolute">
    <parent link="robot21_link_4"/>
    <child link="robot21_link_5"/>
    <axis xyz="0.0 1.0 0.0"/>
    <dynamics damping="0.2" friction="0.0"/>
    <limit lower="-2.18166" upper="2.18166156499" effort="100000.0" velocity="6.2832"/>
    <origin xyz="0.939 0.0 0.0" rpy="0.0 0.0 0.0"/>
  </joint>
  <joint name="robot21_joint_6" type="revolute">
    <parent link="robot21_link_5"/>
    <child link="robot21_link_6"/>
    <axis xyz="0.0 0.0 1.0"/>
    <dynamics damping="0.2" friction="0.0"/>
    <limit lower="-6.98131700798" upper="6.98131700798" effort="100000.0" velocity="7.854"/>
    <origin xyz="0.135 0.0 0.0" rpy="0.0 1.57079632679 0.0"/>
  </joint>
  <joint name="robot21_joint_6-tool0" type="fixed">
    <parent link="robot21_link_6"/>
    <child link="robot21_tool0"/>
    <axis xyz="1.0 0.0 0.0"/>
    <origin xyz="0.0 0.0 0.0" rpy="0.0 0.0 0.0"/>
  </joint>
  <joint name="robot22_joint_EA_Y" type="prismatic">
    <parent link="bridge2"/>
    <child link="robot22_xy_cart"/>
    <axis xyz="0.0 -1.0 0.0"/>
    <dynamics damping="0.2" friction="0.0"/>
    <limit lower="-12.237" upper="-2.587" effort="100000.0" velocity="2.618"/>
    <origin xyz="0.0 0.0 0.0" rpy="0.0 0.0 0.0"/>
  </joint>
  <joint name="robot22_joint_EA_Z" type="prismatic">
    <parent link="robot22_xy_cart"/>
    <child link="robot22_base"/>
    <axis xyz="0.0 0.0 -1.0"/>
    <dynamics damping="0.2" friction="0.0"/>
    <limit lower="-4.915" upper="-1.005" effort="100000.0" velocity="2.618"/>
    <origin xyz="0.0 0.0 0.0" rpy="0.0 0.0 0.0"/>
  </joint>
  <joint name="robot22_joint_0" type="fixed">
    <parent link="robot22_base"/>
    <child link="robot22_base_link"/>
    <axis xyz="1.0 0.0 0.0"/>
    <dynamics damping="0.2" friction="0.0"/>
    <origin xyz="0.0 0.0 0.0" rpy="-3.1415926535895866 0.0 -3.1415926535895866"/>
  </joint>
  <joint name="robot22_joint_1" type="revolute">
    <parent link="robot22_base_link"/>
    <child link="robot22_link_1"/>
    <axis xyz="0.0 0.0 1.0"/>
    <dynamics damping="0.2" friction="0.0"/>
    <limit lower="-3.14159265359" upper="3.14159265359" effort="100000.0" velocity="2.618"/>
    <origin xyz="0.0 0.0 0.0" rpy="0.0 0.0 0.0"/>
  </joint>
  <joint name="robot22_joint_2" type="revolute">
    <parent link="robot22_link_1"/>
    <child link="robot22_link_2"/>
    <axis xyz="0.0 1.0 0.0"/>
    <dynamics damping="0.2" friction="0.0"/>
    <limit lower="-1.57079632679" upper="2.61799387799" effort="100000.0" velocity="2.618"/>
    <origin xyz="0.175 0.0 0.495" rpy="0.0 0.0 0.0"/>
  </joint>
  <joint name="robot22_joint_3" type="revolute">
    <parent link="robot22_link_2"/>
    <child link="robot22_link_3"/>
    <axis xyz="0.0 1.0 0.0"/>
    <dynamics damping="0.2" friction="0.0"/>
    <limit lower="-3.14159265359" upper="1.308996939" effort="100000.0" velocity="2.618"/>
    <origin xyz="0.0 0.0 1.095" rpy="0.0 0.0 0.0"/>
  </joint>
  <joint name="robot22_joint_4" type="revolute">
    <parent link="robot22_link_3"/>
    <child link="robot22_link_4"/>
    <axis xyz="1.0 0.0 0.0"/>
    <dynamics damping="0.2" friction="0.0"/>
    <limit lower="-6.98131700798" upper="6.98131700798" effort="10000.0" velocity="6.2832"/>
    <origin xyz="0.331 0.0 0.175" rpy="0.0 0.0 0.0"/>
  </joint>
  <joint name="robot22_joint_5" type="revolute">
    <parent link="robot22_link_4"/>
    <child link="robot22_link_5"/>
    <axis xyz="0.0 1.0 0.0"/>
    <dynamics damping="0.2" friction="0.0"/>
    <limit lower="-2.18166" upper="2.18166156499" effort="100000.0" velocity="6.2832"/>
    <origin xyz="0.939 0.0 0.0" rpy="0.0 0.0 0.0"/>
  </joint>
  <joint name="robot22_joint_6" type="revolute">
    <parent link="robot22_link_5"/>
    <child link="robot22_link_6"/>
    <axis xyz="0.0 0.0 1.0"/>
    <dynamics damping="0.2" friction="0.0"/>
    <limit lower="-6.98131700798" upper="6.98131700798" effort="100000.0" velocity="7.854"/>
    <origin xyz="0.135 0.0 0.0" rpy="0.0 1.57079632679 0.0"/>
  </joint>
  <joint name="robot22_joint_6-tool0" type="fixed">
    <parent link="robot22_link_6"/>
    <child link="robot22_tool0"/>
    <axis xyz="1.0 0.0 0.0"/>
    <origin xyz="0.0 0.0 0.0" rpy="0.0 0.0 0.0"/>
  </joint>
</robot>
